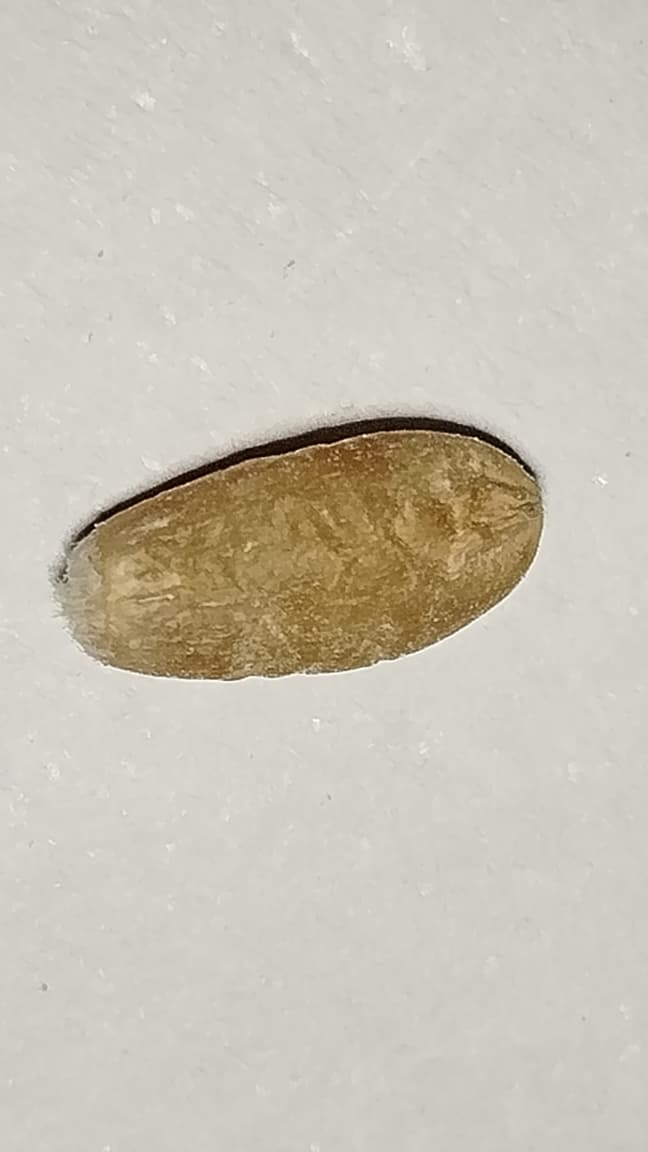damage: (51, 417, 542, 679)
shriveledseed: (63, 433, 541, 678)
